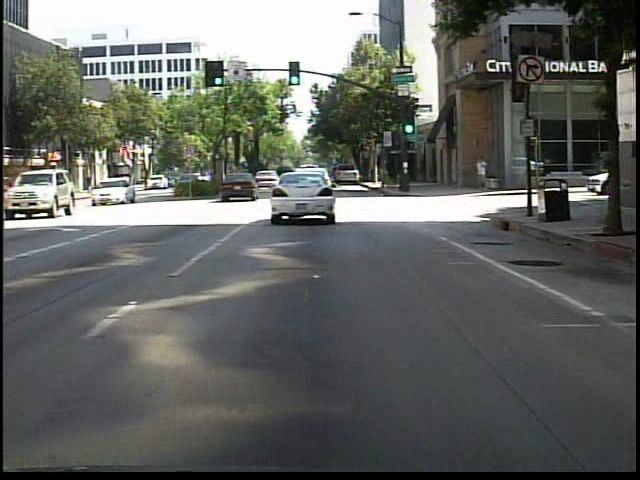person: (474, 155, 491, 194)
